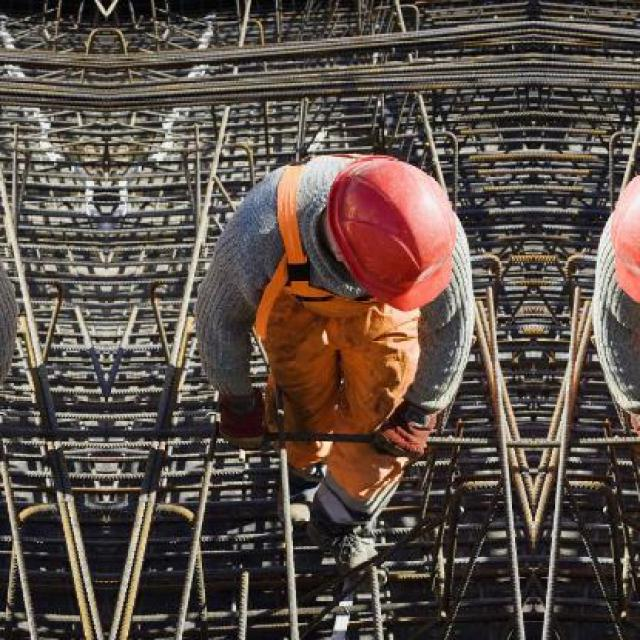helmet: (322, 158, 460, 310), (604, 158, 637, 311)
